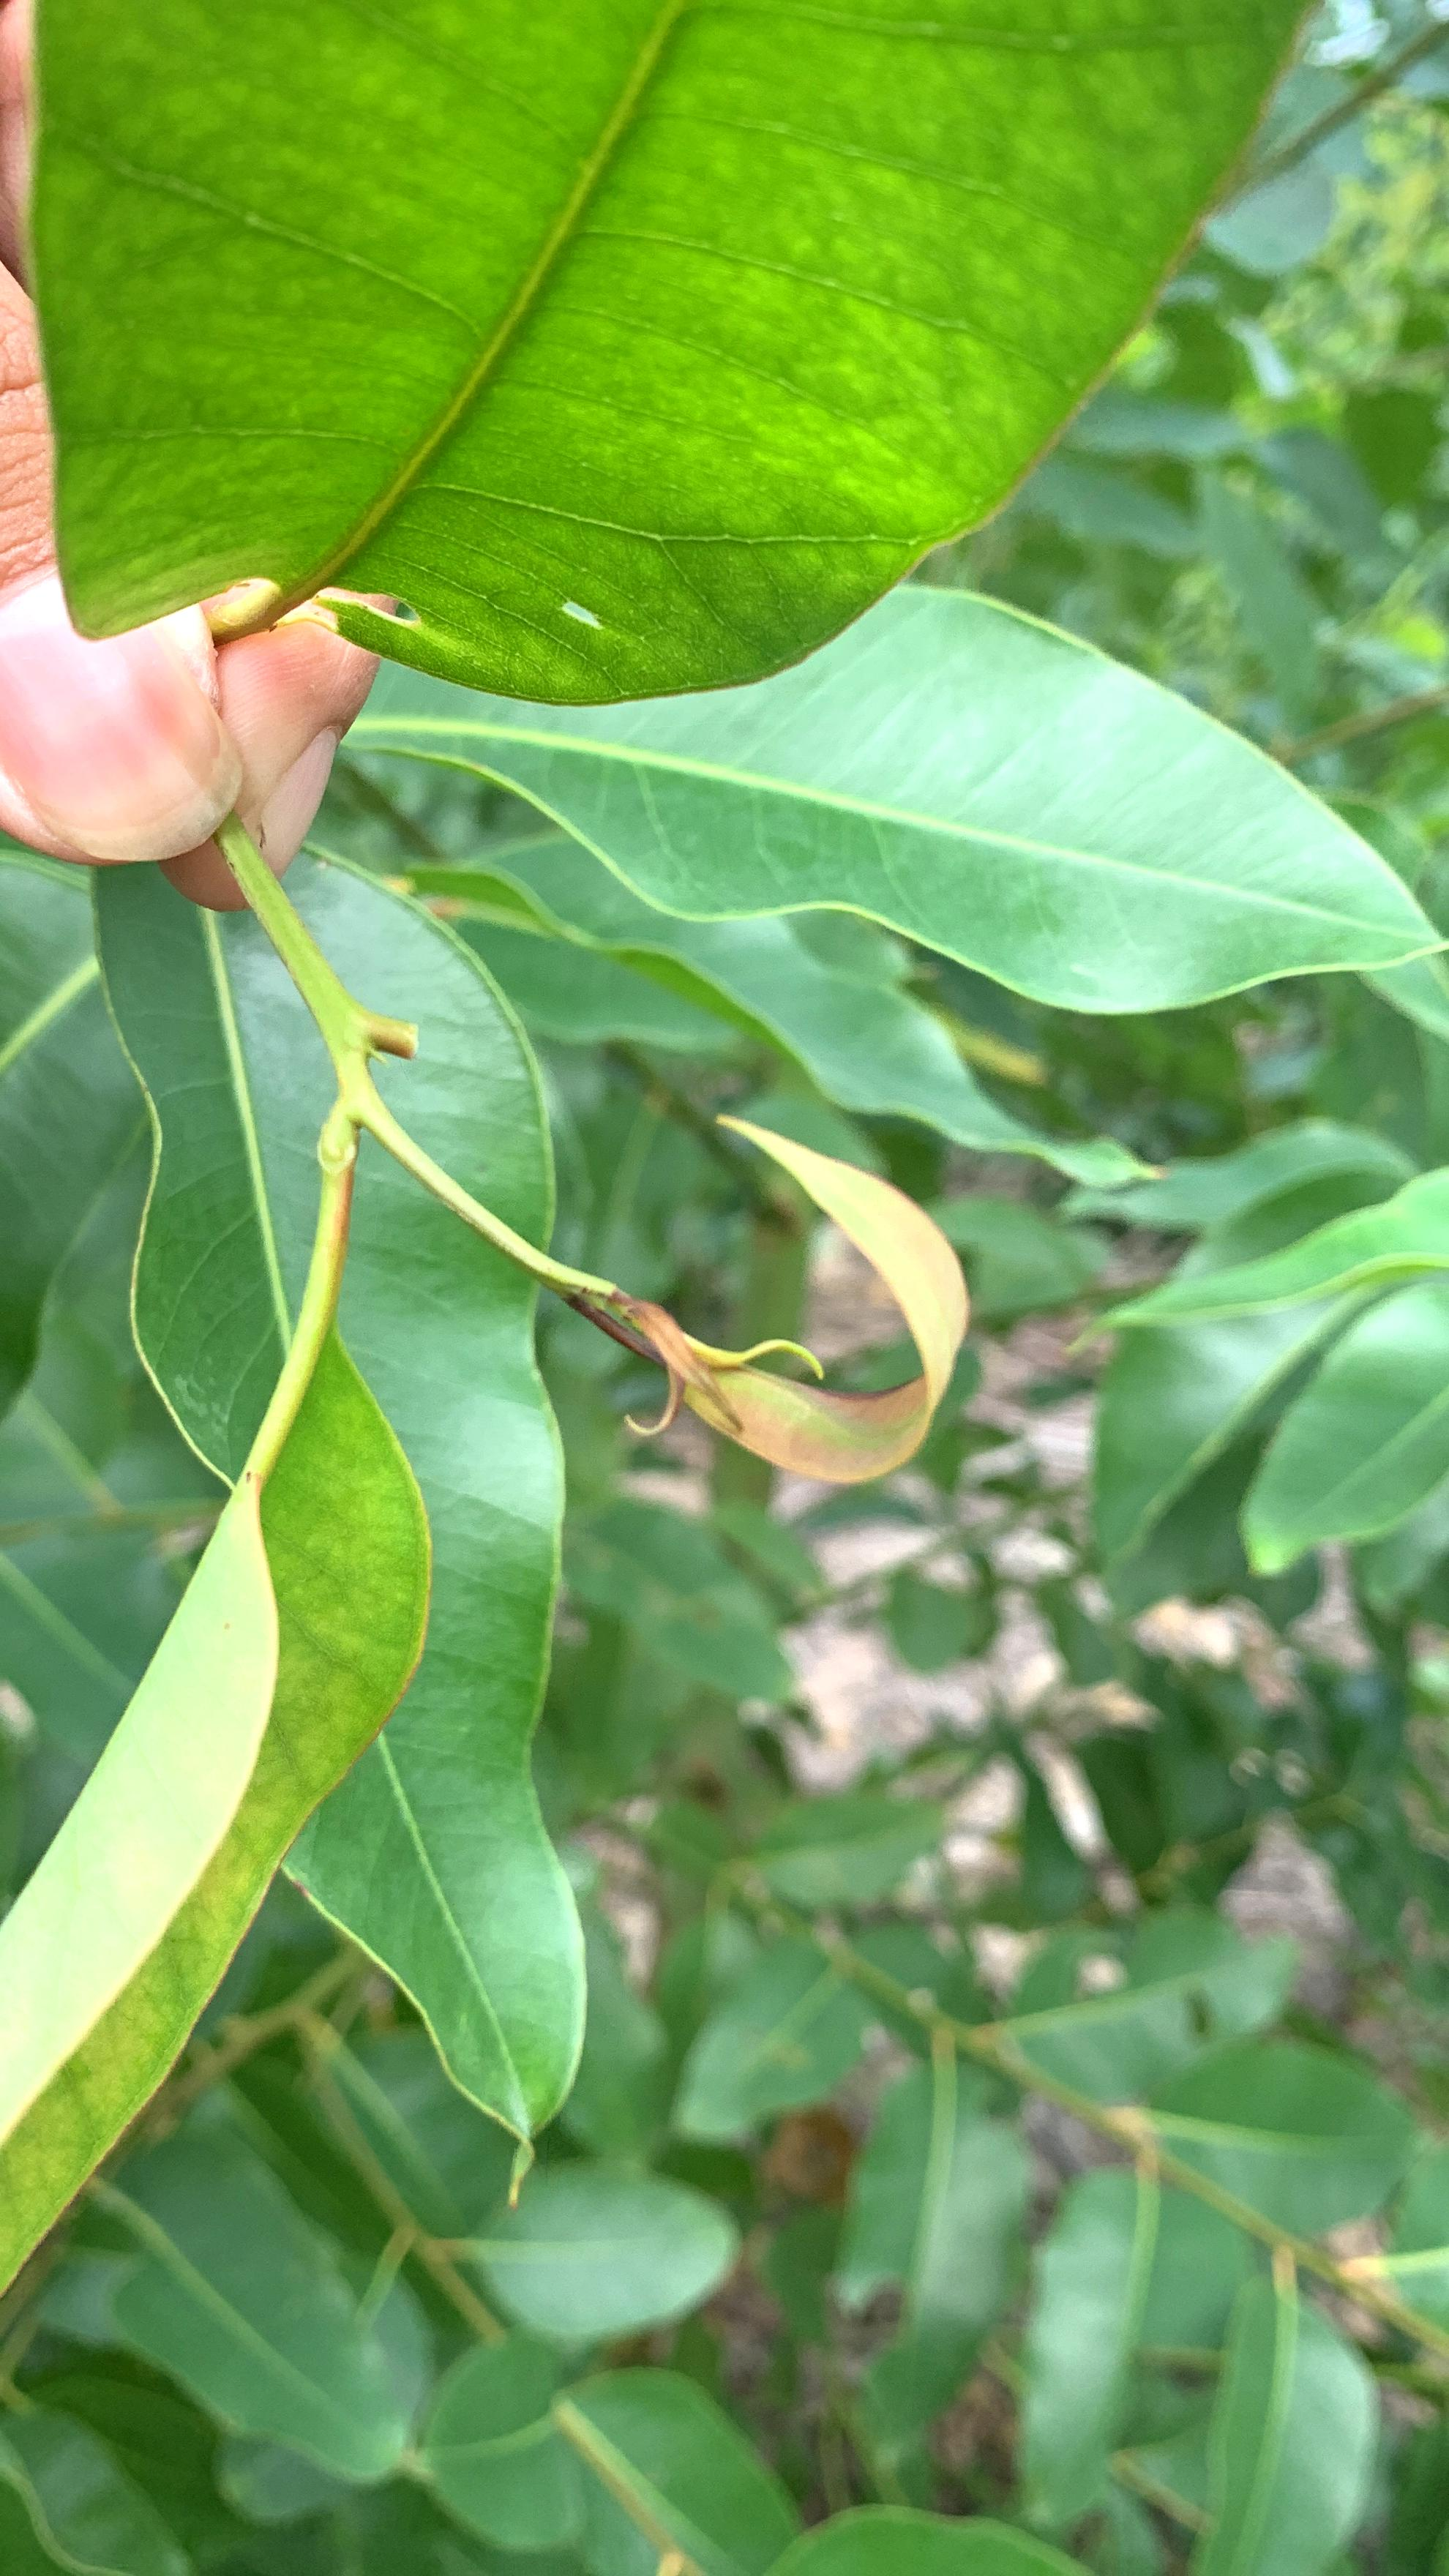Helopeltis-Withered Sprout: (547, 1070, 1077, 1535)
